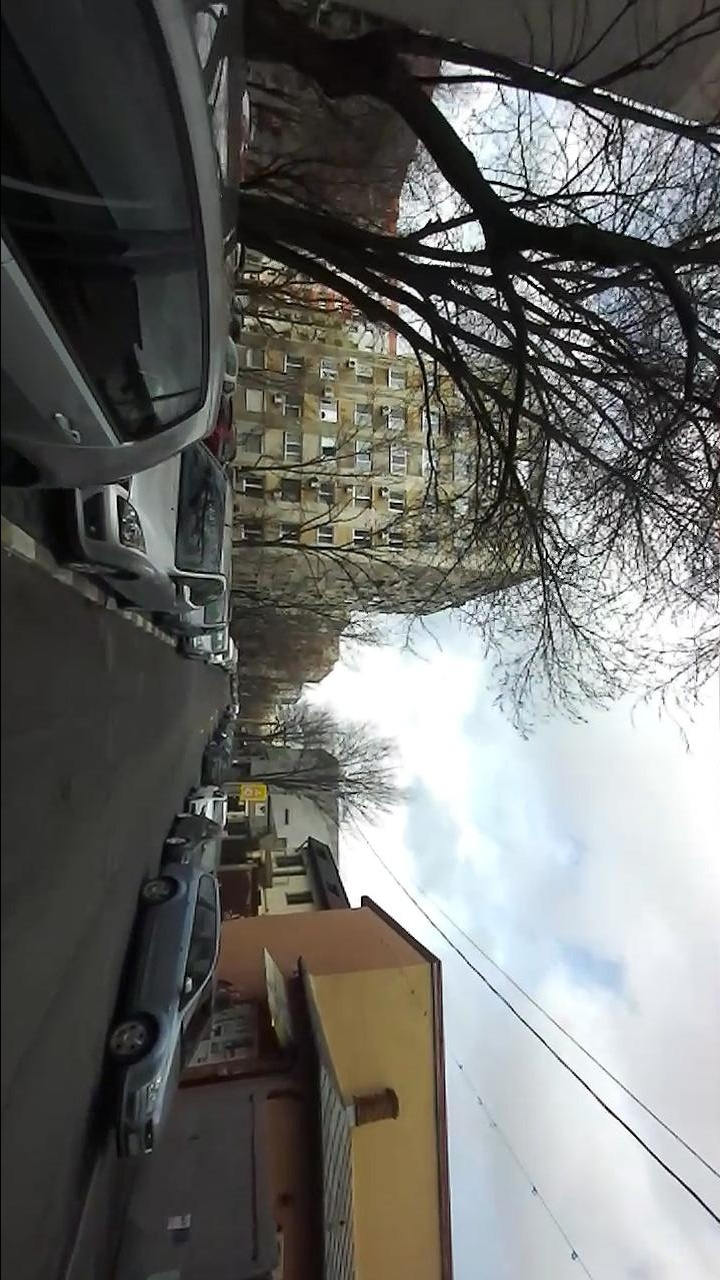pothole: (56, 772, 80, 816)
